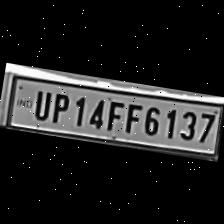1: (67, 90, 89, 127), (159, 104, 180, 138)
3: (175, 105, 199, 141)
4: (83, 92, 108, 129)
6: (139, 100, 164, 136)
7: (195, 109, 217, 143)
F: (102, 96, 125, 131), (121, 99, 144, 134)
P: (46, 88, 72, 124)
U: (28, 83, 53, 120)
